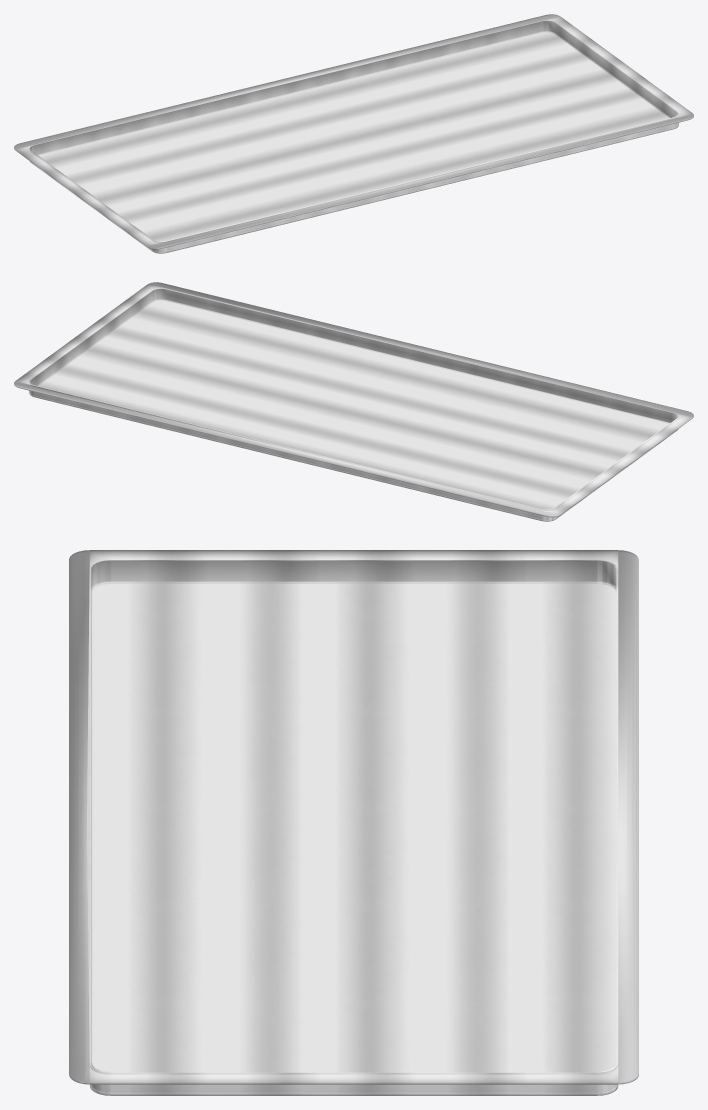
Rendered from original-89.obj.
3 views of the same model, one above another, from view 1: azimuth 30°, elevation 25°; view 2: azimuth 150°, elevation 25°; view 3: azimuth 270°, elevation 25° (orthographic). The views are drawn at different scales.
Parts seen in each view (by area): view 1: Group45/mesh84/mesh84-geometry#mesh84-geometry; view 2: Group45/mesh84/mesh84-geometry#mesh84-geometry; view 3: Group45/mesh84/mesh84-geometry#mesh84-geometry.
Boxes of the visible parts, x1,y1,x2,y2 form: Group45/mesh84/mesh84-geometry#mesh84-geometry: [14, 14, 693, 253]; Group45/mesh84/mesh84-geometry#mesh84-geometry: [14, 282, 693, 521]; Group45/mesh84/mesh84-geometry#mesh84-geometry: [69, 550, 638, 1095].
Size of the model in its own units: 1.12 by 0.0228 by 0.5083.
Materials: 1 (1 with a texture image).
